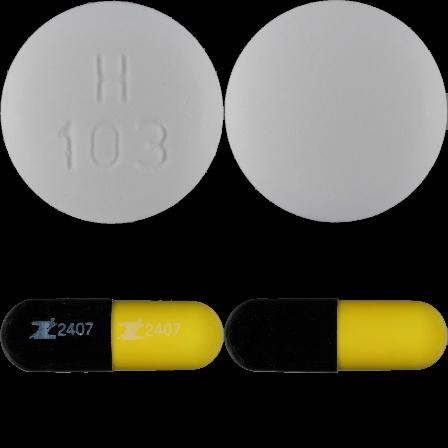10544-589: (0, 0, 224, 224)
